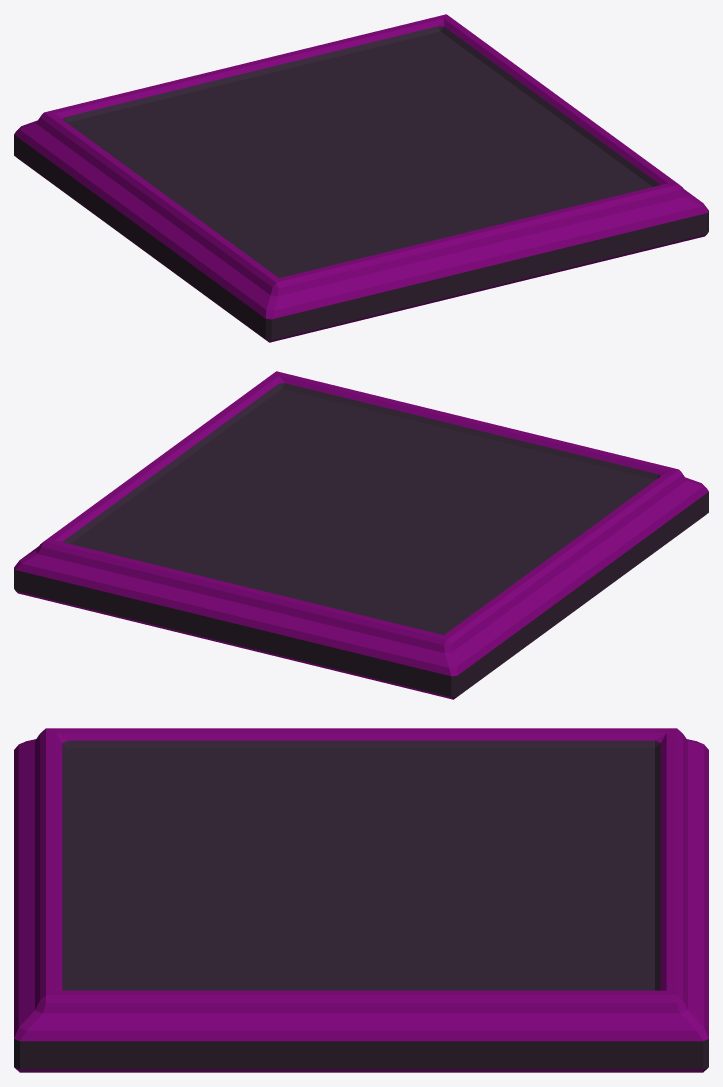
3 views of the same model, one above another, from view 1: azimuth 30°, elevation 25°; view 2: azimuth 150°, elevation 25°; view 3: azimuth 270°, elevation 25° (orthographic). The views are drawn at different scales.
Visible parts, largest first — view 1: Base; view 2: Base; view 3: Base.
Boxes of the visible parts, x1,y1,x2,y2 form: Base: [14, 14, 708, 342]; Base: [14, 371, 708, 699]; Base: [14, 728, 708, 1072].
Bounding box in the file's own units: 200 × 21.14 × 200.
